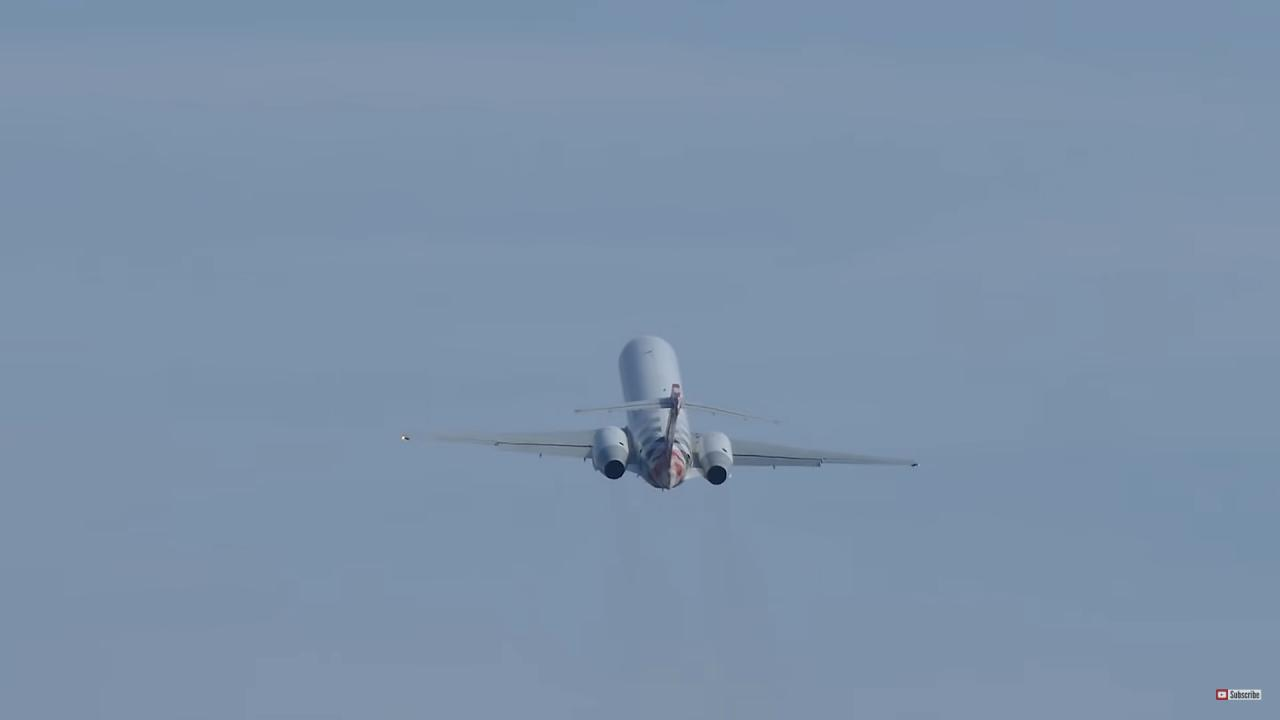Airplane: (380, 312, 936, 516)
